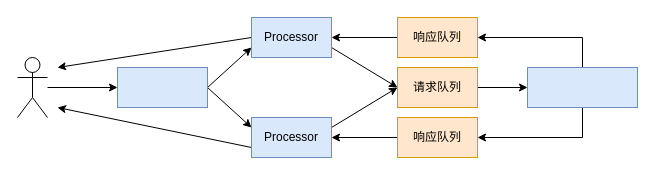
Some shapes in this 655 by 175 pixel diagram are drawn without their labels. Each missing label, with the centre of its shape:
Acceptoer: (x=162, y=87)
Actor: (x=32, y=87)
Handler线程池: (x=582, y=87)
